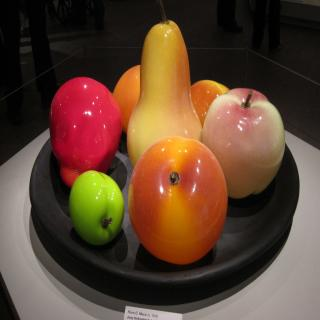tomato: (124, 133, 226, 264), (111, 63, 142, 131), (190, 80, 230, 128)
